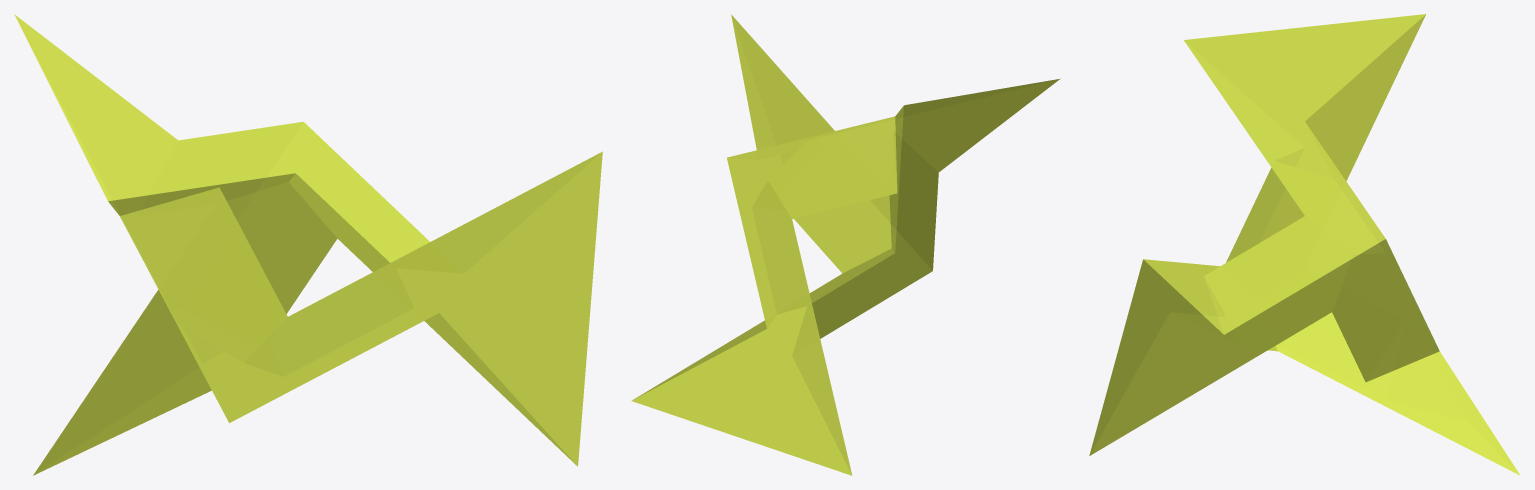
File: HeptagonalDodecahedron_G.obj
The picture shows the model from 3 angles, left to right: view 1: azimuth 30°, elevation 25°; view 2: azimuth 150°, elevation 25°; view 3: azimuth 270°, elevation 25°; orthographic projection. The views are drawn at different scales.
Bounding box in the file's own units: 16 × 16 × 16.
